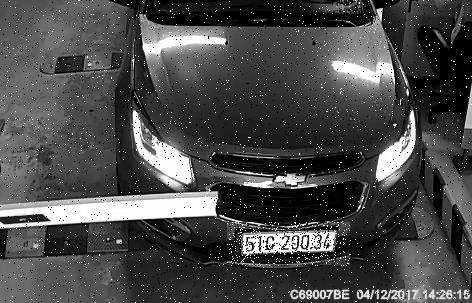License-plate: (229, 224, 353, 268)
